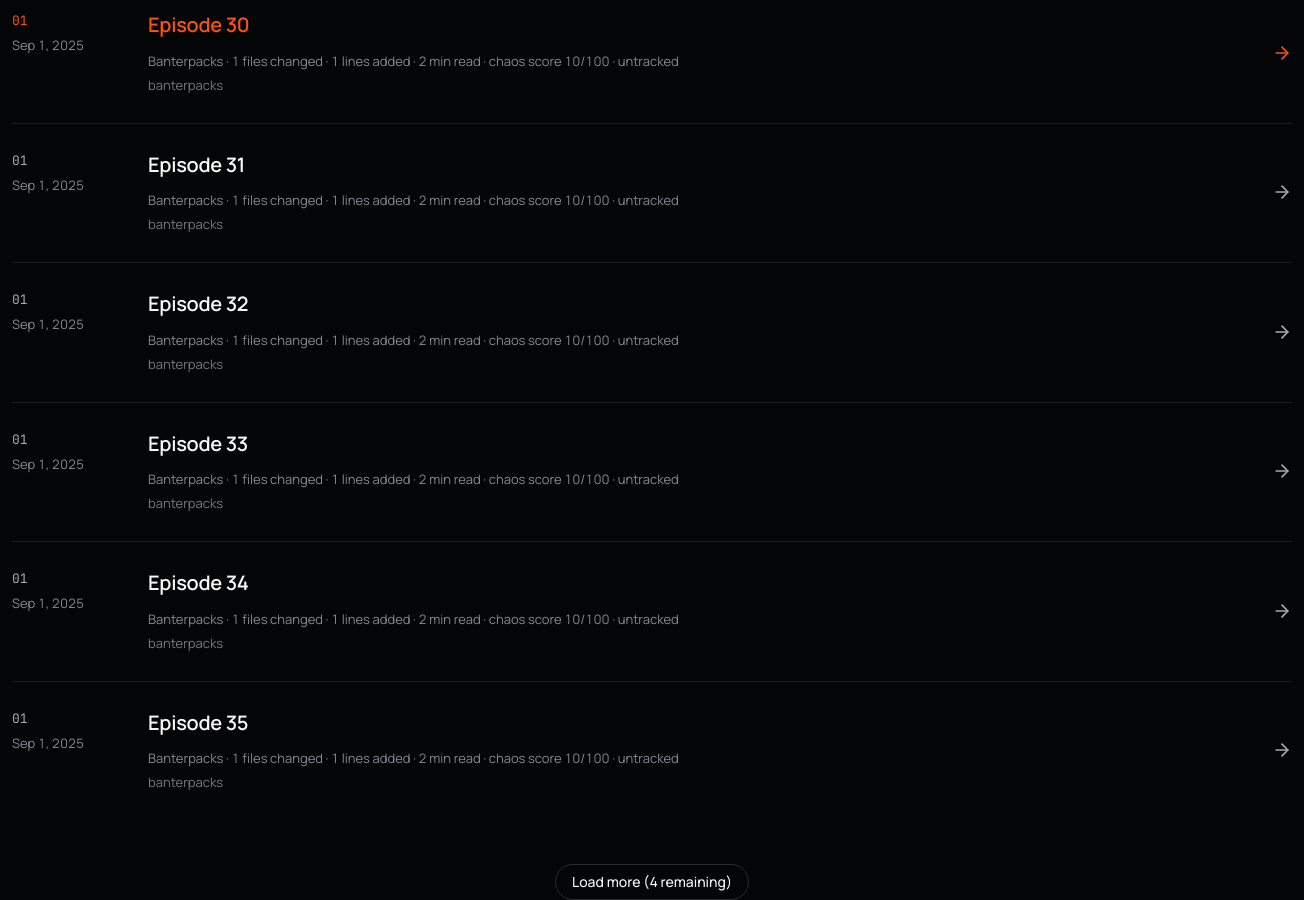
Test: episode filters › shows a page of rows at a time and loads the next on request
(page scrolled)
Click the button "Load more (4 remaining)": coordinates (652, 882) [555,864,749,899]
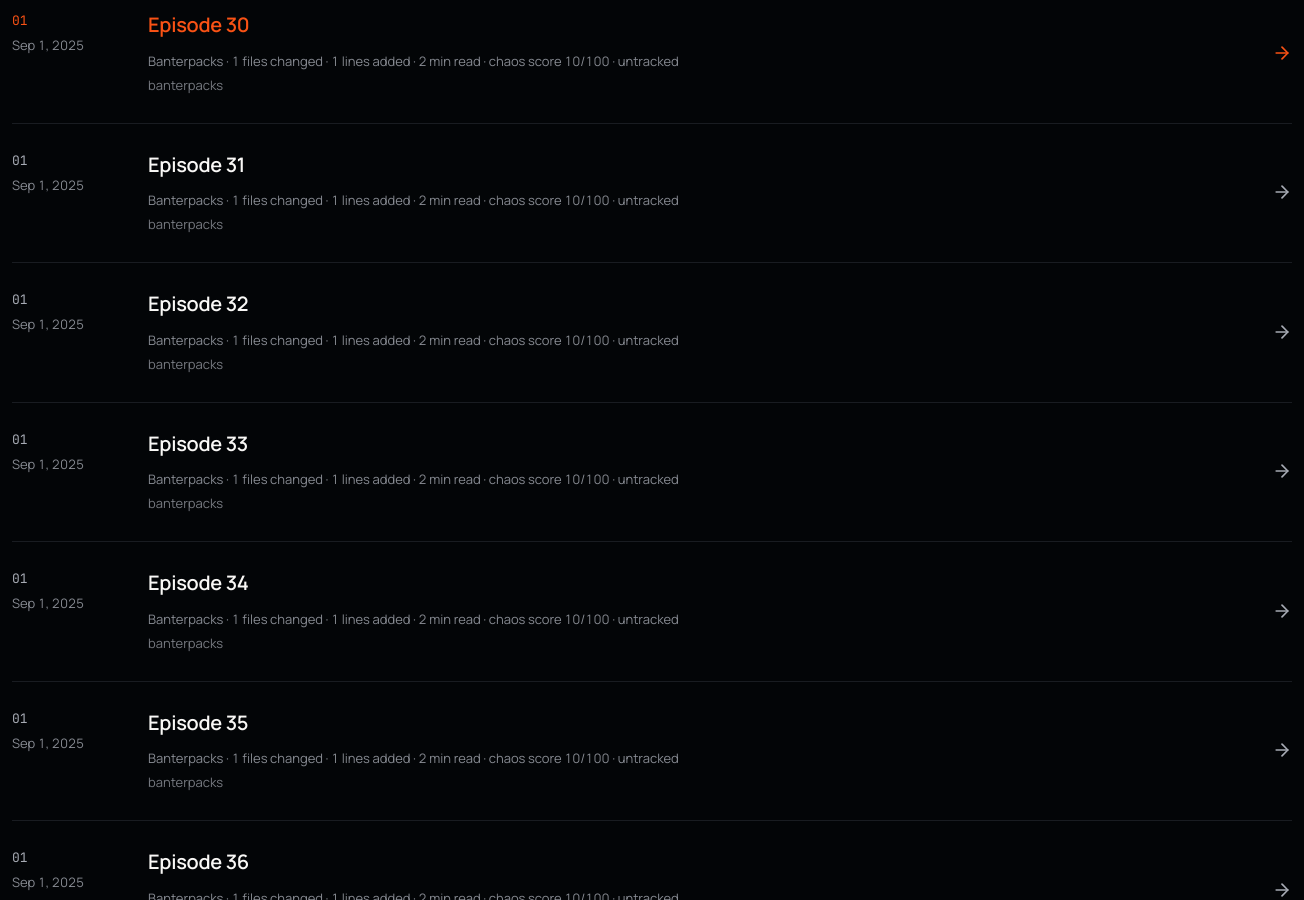
Check: the button "Load more" is gone
